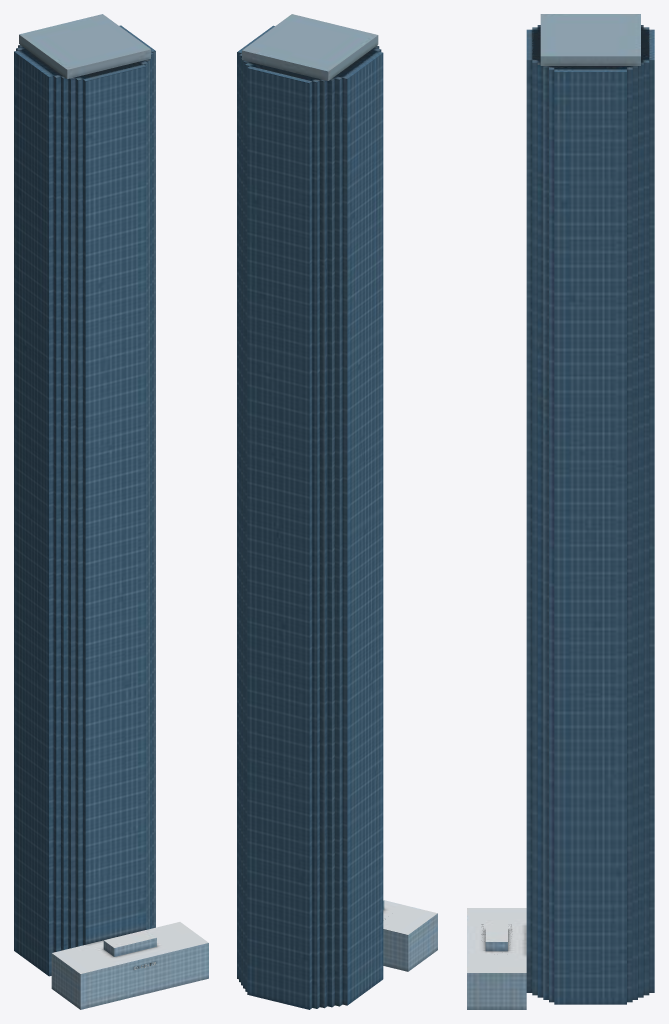
File: ids_center.glb
3 views of the same model, side by side, from view 1: azimuth 30°, elevation 25°; view 2: azimuth 150°, elevation 25°; view 3: azimuth 270°, elevation 25° (orthographic). The views are drawn at different scales.
Parts seen in each view (by area): view 1: ids_center; view 2: ids_center; view 3: ids_center.
Part boxes in pixels (x1,y1,x2,y2): ids_center: [14, 14, 208, 1009]; ids_center: [237, 14, 437, 1009]; ids_center: [467, 14, 654, 1009].
Bounding box in the file's own units: 36 × 244 × 44.15.
Materials: 1 (1 with a texture image).
